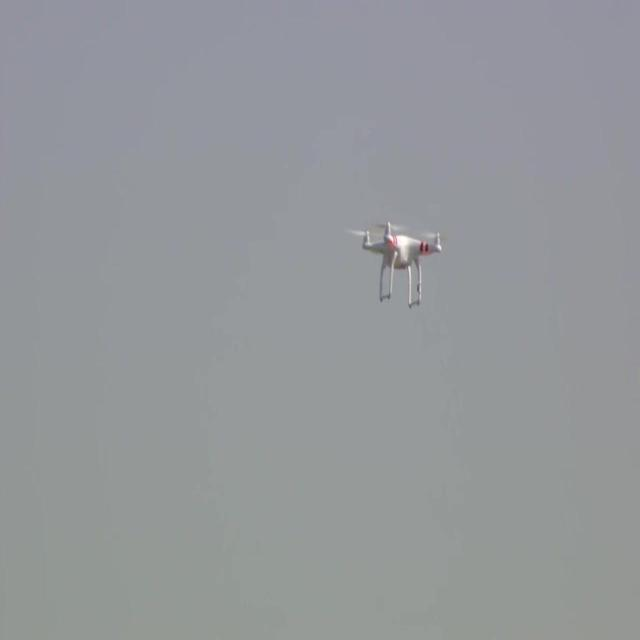drone: (354, 220, 445, 310)
